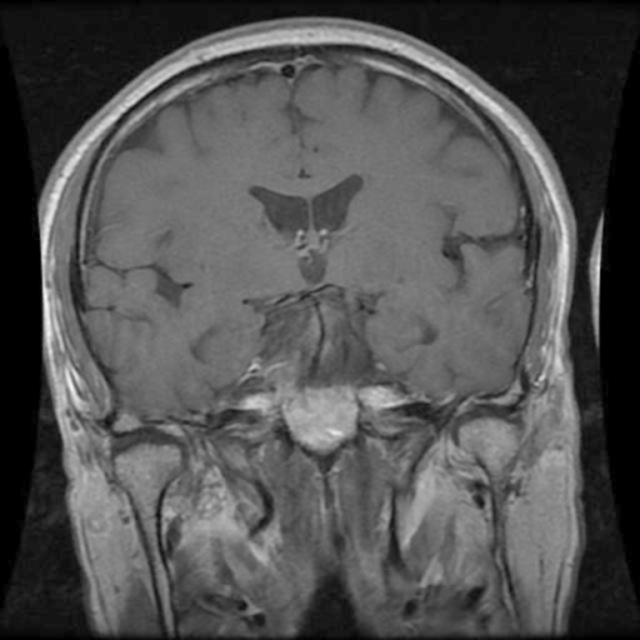no tumor: (292, 380, 363, 455)
